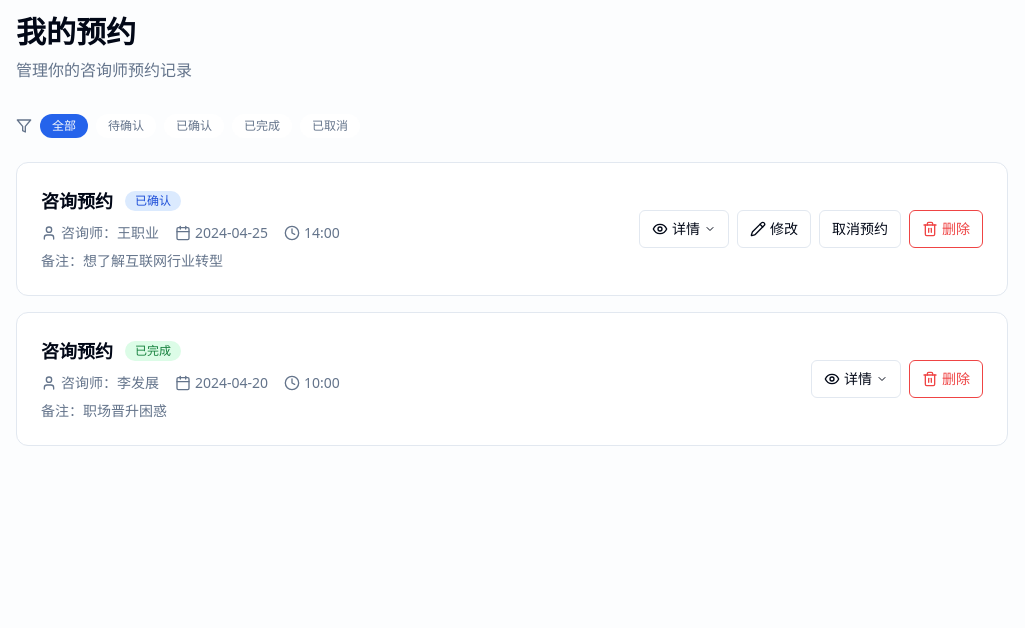
Test: Appointments Page › shows appointment detail when clicking detail button
Click the button "详情" in the row of "14:00": (684, 229) 639,210 -> 729,248
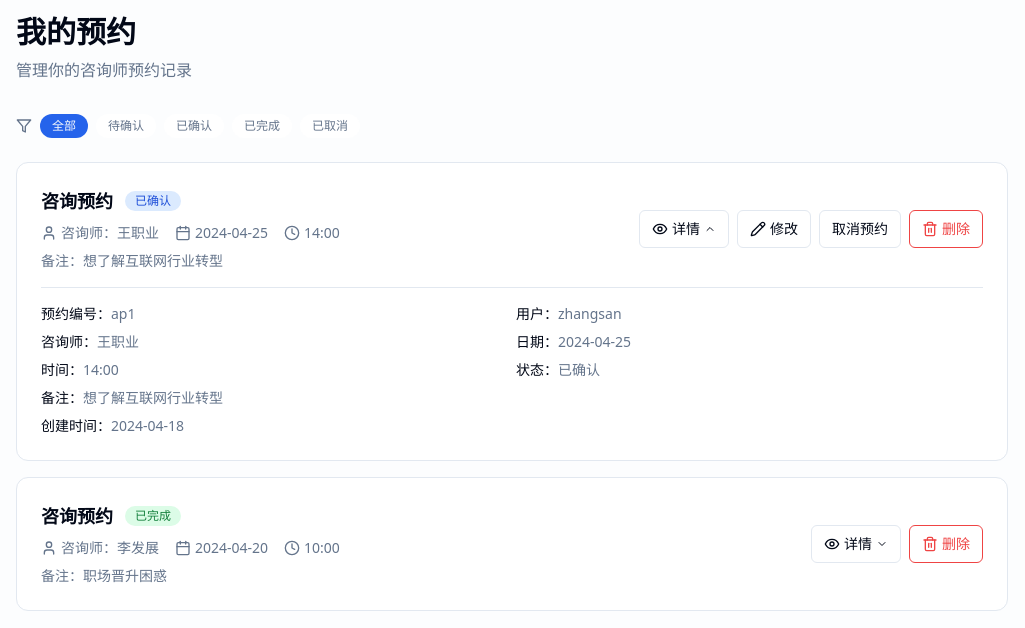
Expected: the text "预约编号：" is shown, 41,304 -> 111,323
Expected: the text "用户：" is shown, 516,304 -> 558,323
Expected: the text "日期：" is shown, 516,332 -> 558,351
